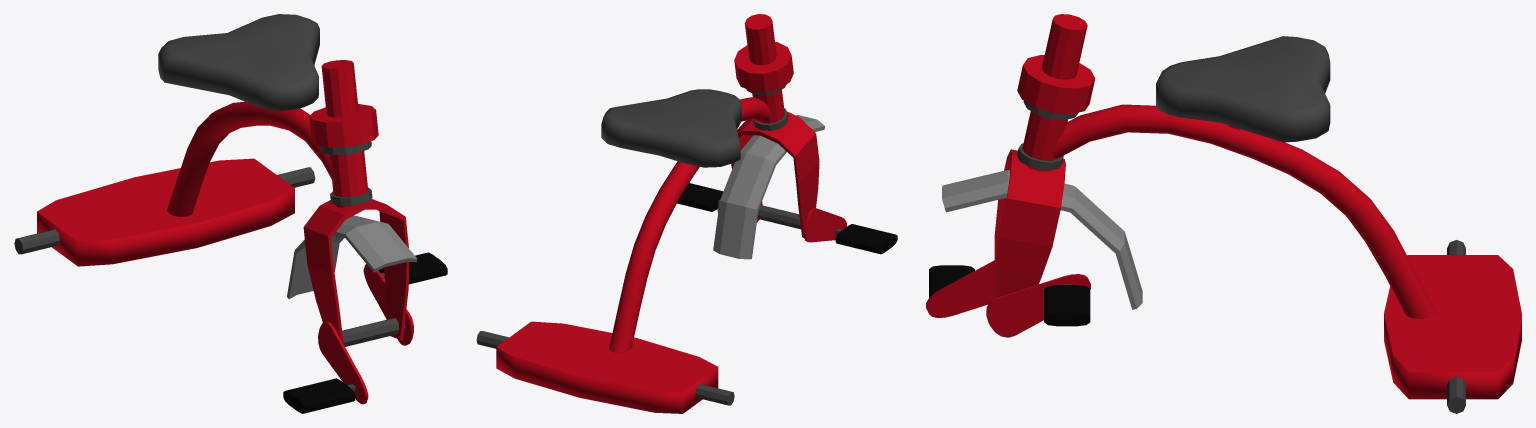
Rendered from tricyclebody.fbx.
3 views of the same model, side by side, from view 1: azimuth 30°, elevation 25°; view 2: azimuth 150°, elevation 25°; view 3: azimuth 270°, elevation 25° (orthographic). The views are drawn at different scales.
Parts seen in each view (by area): view 1: Cylinder.010; view 2: Cylinder.010; view 3: Cylinder.010.
Part boxes in pixels (<box>): Cylinder.010: <box>14,14,447,413</box>; Cylinder.010: <box>476,14,897,413</box>; Cylinder.010: <box>926,14,1521,413</box>.
Size of the model in its own units: 52.39 by 49.92 by 84.09.
